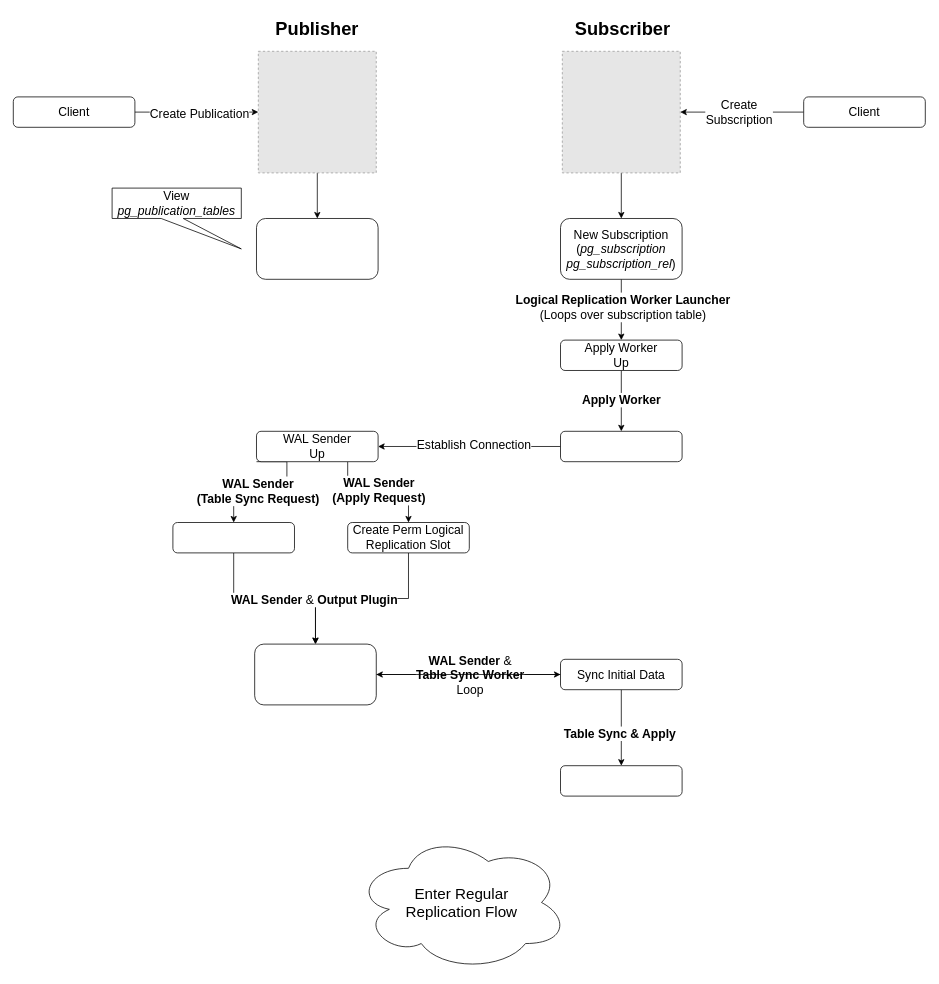
Some shapes in this 939 by 984 pixel diagram are drawn without their labels. Grey dashed boxes stand in for pictures. Each missing label, with the box of its shape:
Create Temp Logical Replication Slot: (172, 522, 294, 553)
Decoded Transactions From All Replication Slots: (254, 643, 376, 705)
New Publication ( pg_publication pg_publication_rel ): (256, 218, 378, 279)
Sync Changes Occurred Due Sync: (560, 765, 682, 796)
Table Sync Workers Up (Per Table): (560, 431, 682, 462)
